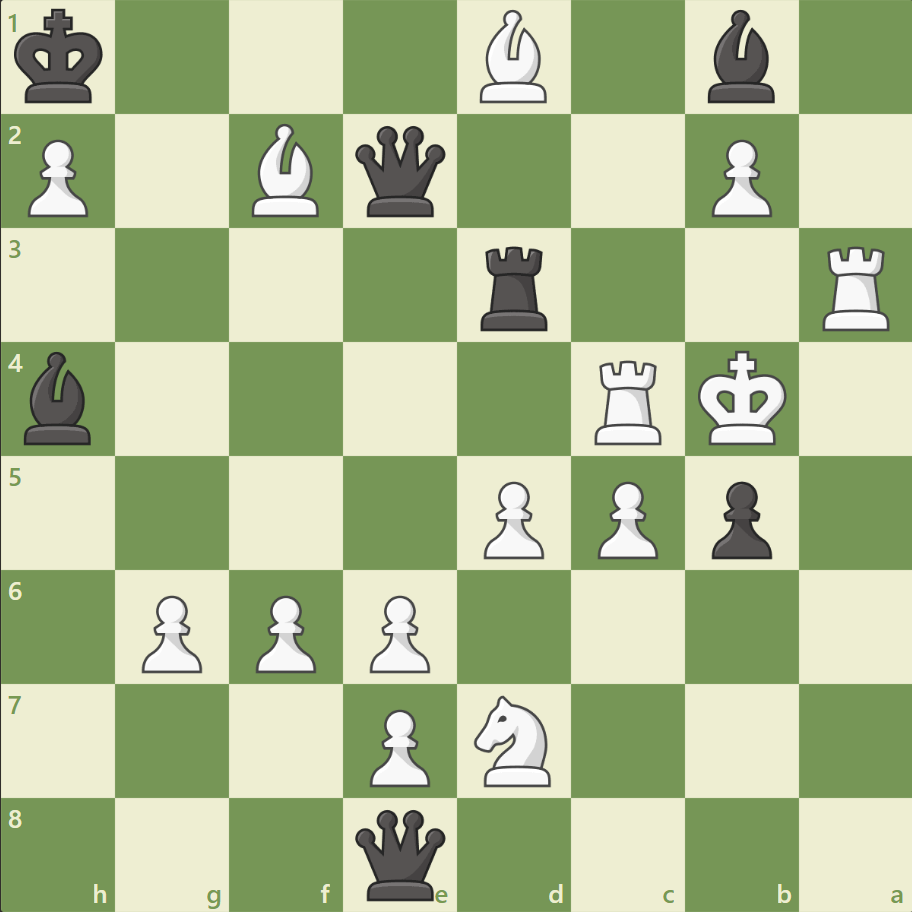B: (471, 6, 555, 109), (244, 120, 328, 222)
K: (692, 344, 792, 452)
N: (465, 688, 562, 791)
P: (247, 586, 322, 677), (133, 586, 208, 677), (474, 473, 549, 564), (701, 132, 776, 223), (20, 132, 95, 223), (361, 700, 435, 791), (361, 586, 435, 677), (588, 473, 662, 564)
R: (587, 352, 670, 449), (814, 239, 897, 336)
b: (698, 6, 782, 109), (17, 347, 101, 449)
k: (11, 4, 111, 112)
p: (701, 473, 776, 564)
q: (351, 122, 450, 222), (351, 804, 450, 903)
r: (473, 239, 556, 336)
